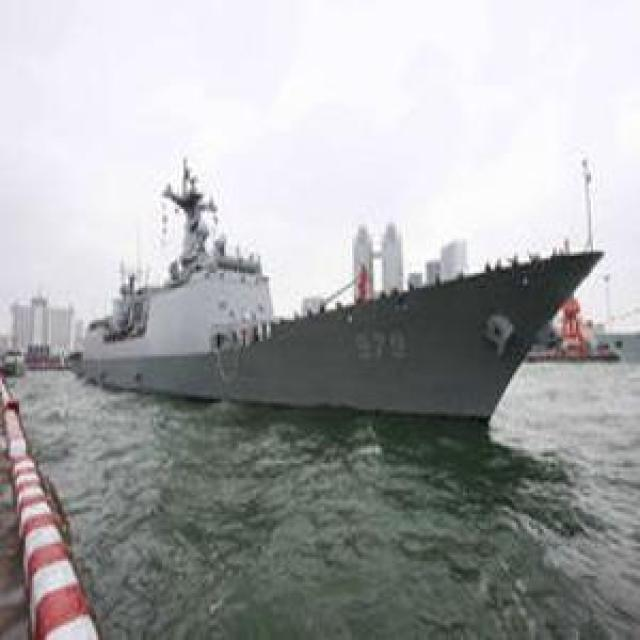navalvessels: (66, 153, 603, 422)
